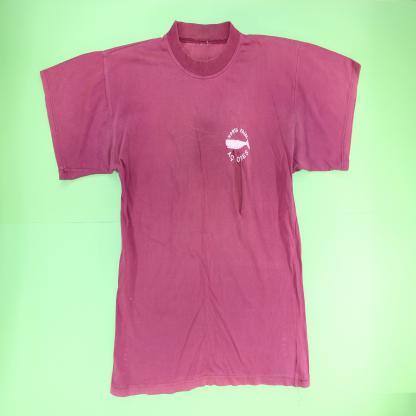hole: (230, 146, 245, 220)
